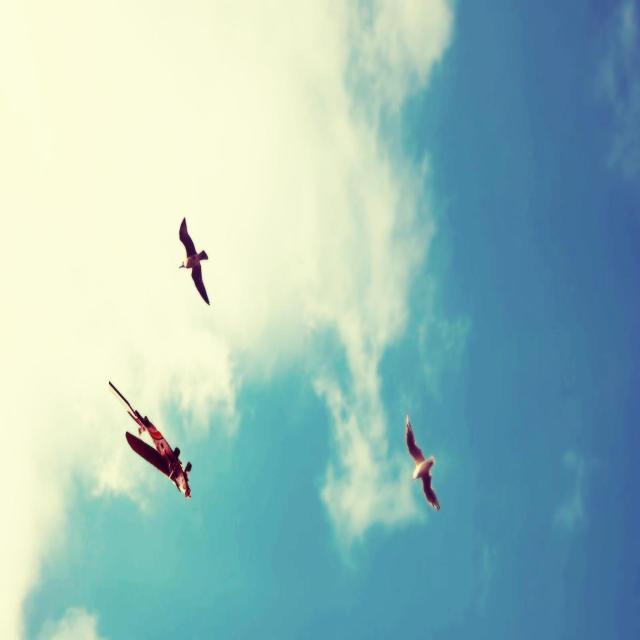airplane: (108, 379, 192, 499)
